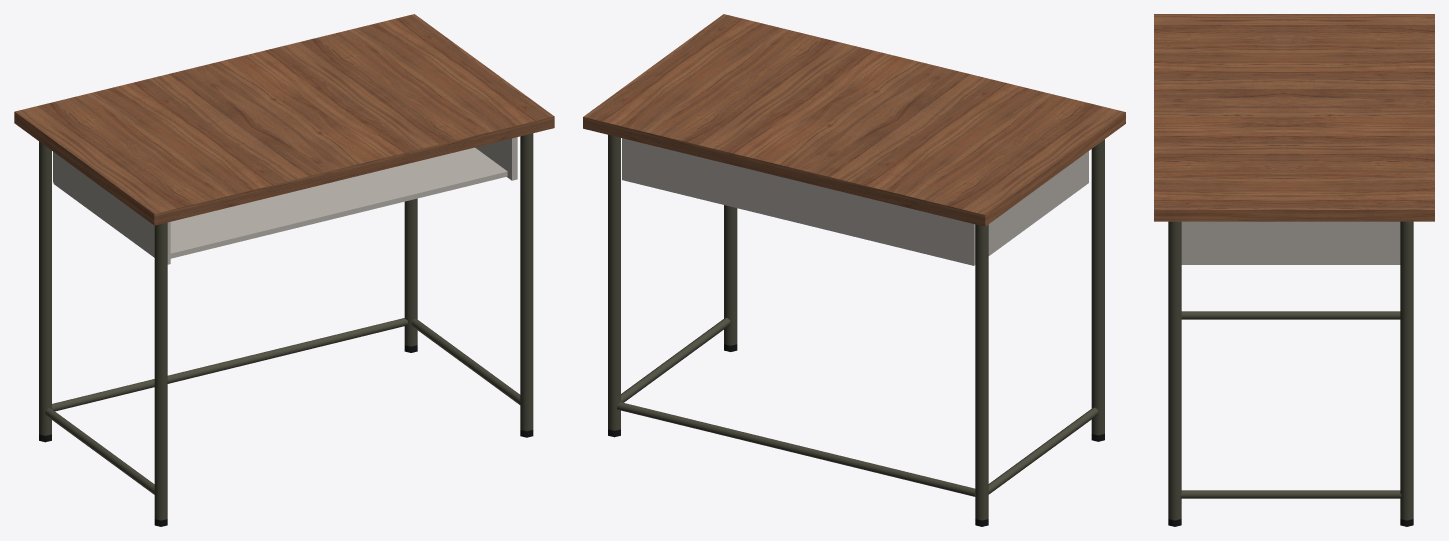
File: table3.FBX
3 renders of one model, left to right at view 1: azimuth 30°, elevation 25°; view 2: azimuth 150°, elevation 25°; view 3: azimuth 270°, elevation 25°, orthographic.
Visible parts, largest first — view 1: table3; view 2: table3; view 3: table3.
Part boxes in pixels (x1=…): table3: x1=14, y1=14, x2=554, y2=526; table3: x1=583, y1=14, x2=1125, y2=526; table3: x1=1154, y1=14, x2=1434, y2=526.
Size of the model in its own units: 6.1 by 4.68 by 3.69.
